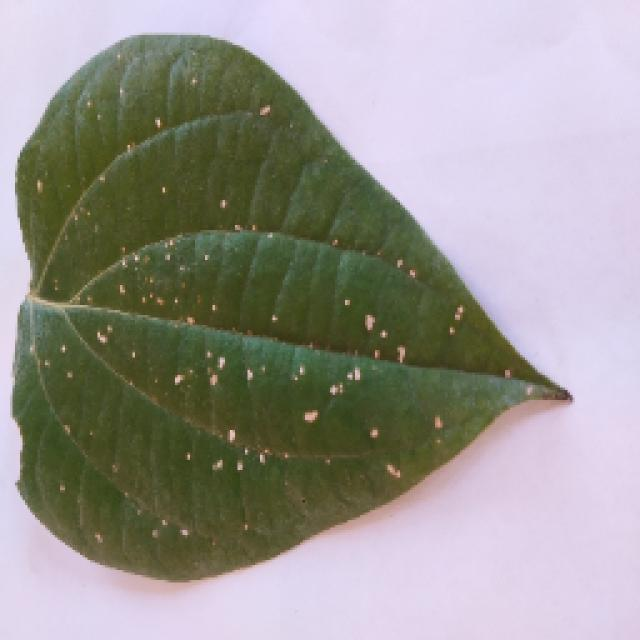pollu-disease: (5, 50, 577, 600)
